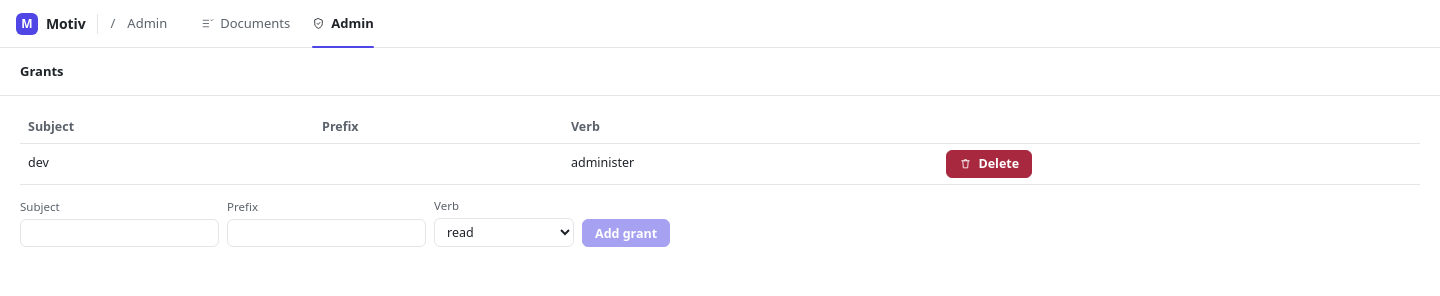
Test case: AdminPage › surfaces the 409 message when removing the last administer grant
Check: the cell "dev" is shown, box top-left (20, 143), bottom-right (314, 184)
Click the button "Delete".
click(989, 164)  # box top-left (946, 150), bottom-right (1032, 178)
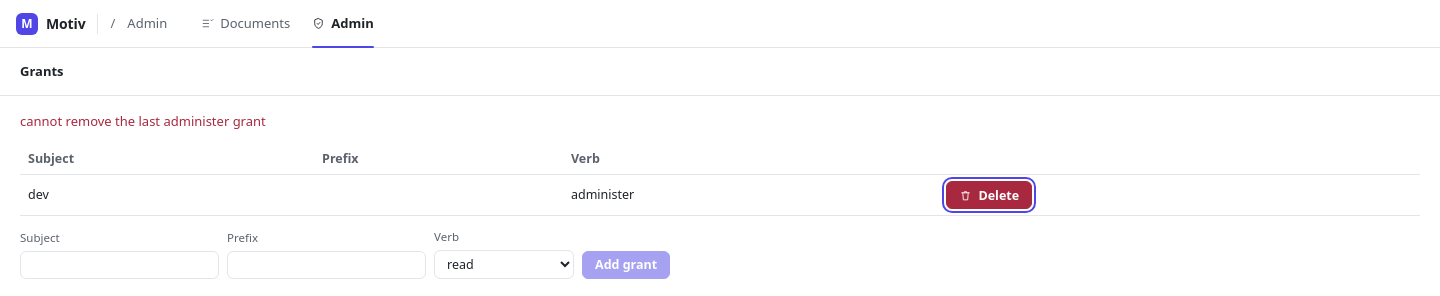
Check: the cell "dev" is shown, box top-left (20, 175), bottom-right (314, 216)
Check: the message reads "cannot remove the last administer grant", box top-left (20, 112), bottom-right (266, 130)
